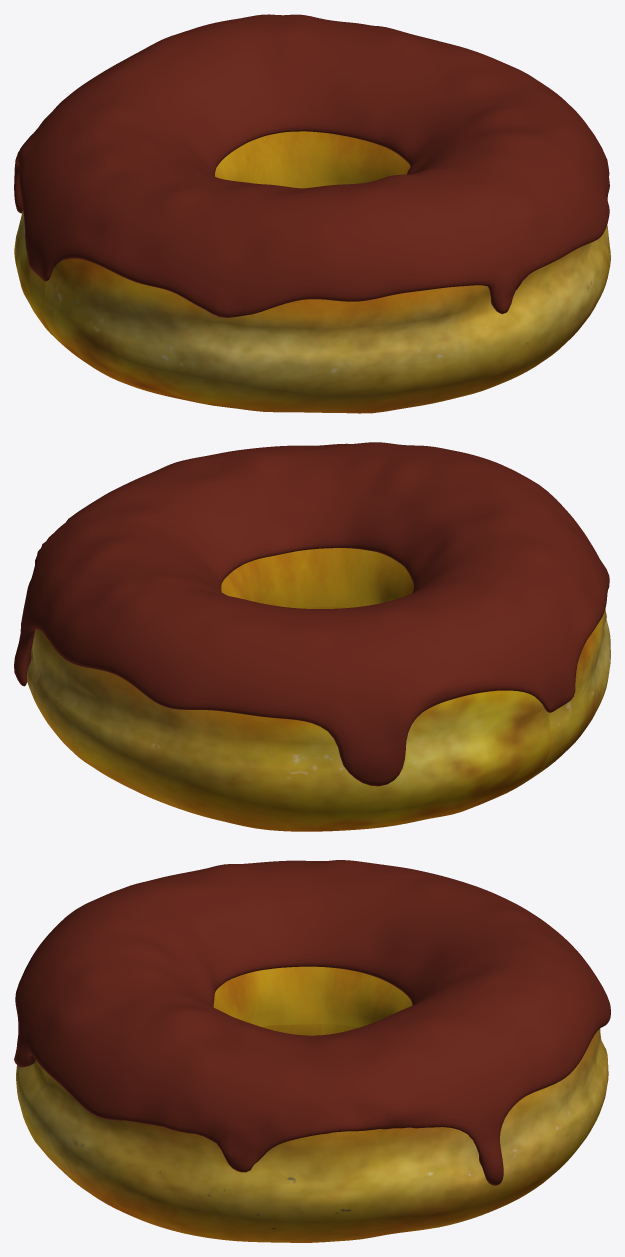
File: donut.glb
3 views of the same model, one above another, from view 1: azimuth 30°, elevation 25°; view 2: azimuth 150°, elevation 25°; view 3: azimuth 270°, elevation 25° (orthographic). The views are drawn at different scales.
Parts seen in each view (by area): view 1: icing, donut; view 2: icing, donut; view 3: icing, donut.
Boxes of the visible parts, x1,y1,x2,y2 form: icing: [14, 14, 609, 317]; donut: [14, 131, 610, 413]; icing: [14, 442, 609, 786]; donut: [26, 548, 610, 831]; icing: [14, 860, 610, 1185]; donut: [16, 966, 608, 1242].
Size of the model in its own units: 0.1523 by 0.0623 by 0.1517.
2 materials, 1 textured.
